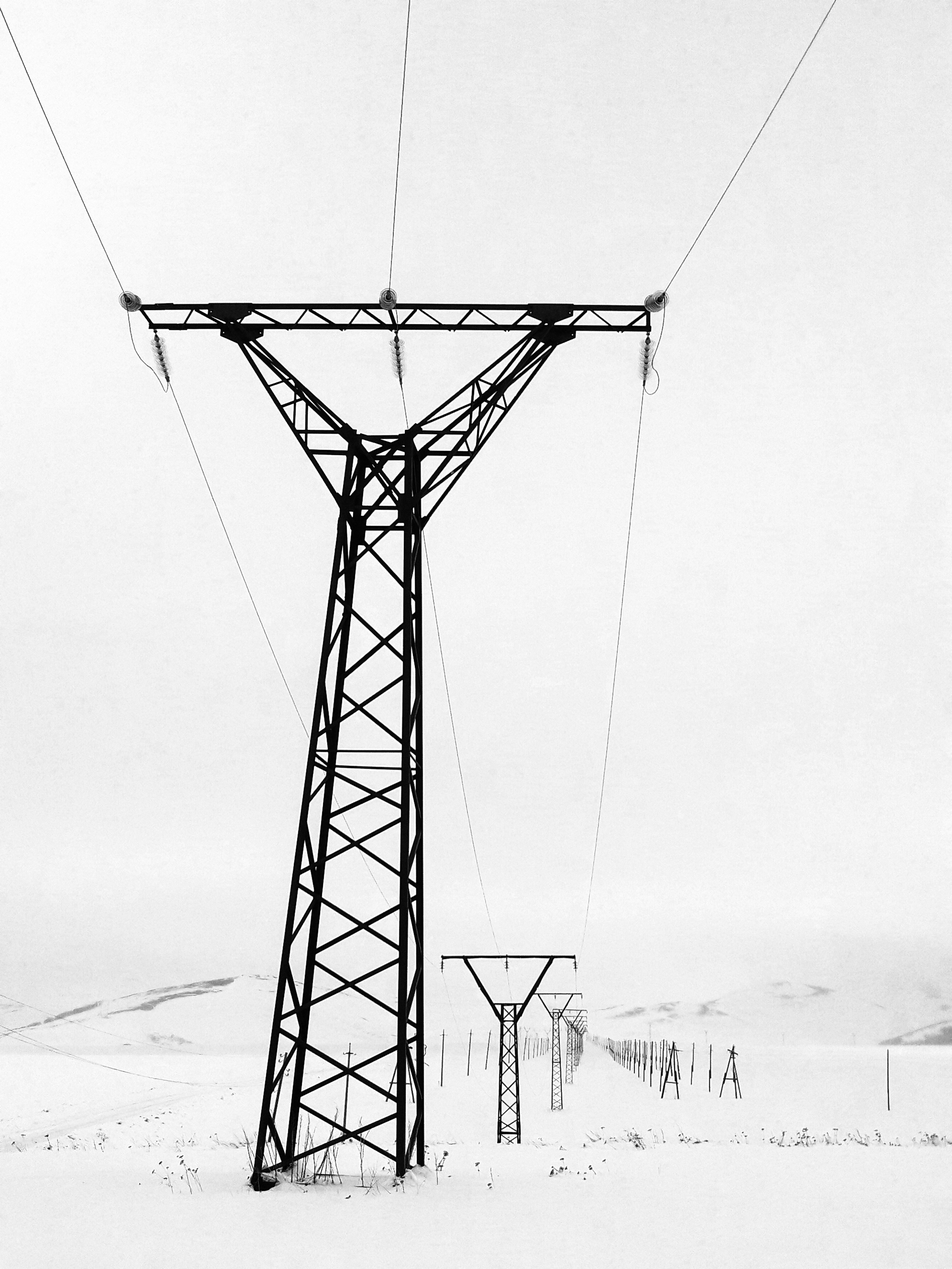insulator: (148, 330, 173, 382), (387, 333, 409, 381), (637, 337, 656, 382), (116, 284, 143, 313), (643, 288, 671, 313), (376, 283, 398, 311)
